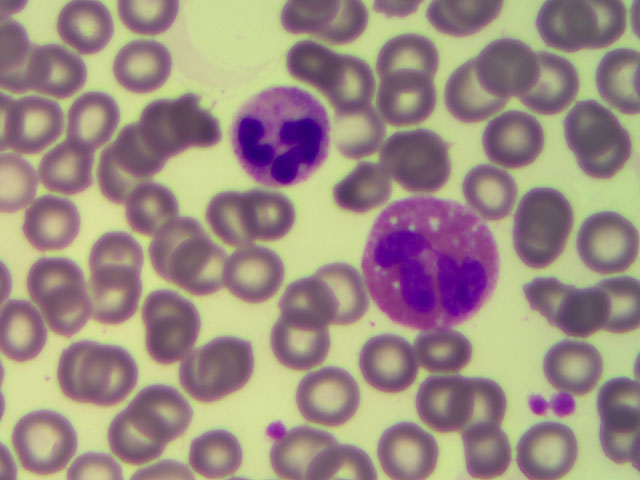Platelets: (518, 389, 586, 414), (260, 417, 286, 437)
RBC: (66, 423, 121, 480), (274, 423, 329, 480), (327, 423, 382, 480), (381, 423, 436, 480), (521, 423, 576, 480), (30, 45, 85, 101), (63, 1, 118, 57), (113, 37, 168, 93), (168, 92, 223, 148), (134, 102, 189, 158), (120, 120, 175, 176), (93, 146, 148, 202), (68, 91, 123, 147), (39, 149, 94, 205), (9, 95, 64, 151), (25, 201, 80, 257), (91, 222, 146, 278), (90, 268, 145, 324), (39, 287, 94, 343), (26, 248, 81, 304), (1, 301, 56, 357), (49, 345, 104, 401), (90, 350, 145, 406), (144, 316, 199, 372), (145, 279, 200, 335), (173, 250, 228, 306), (151, 214, 206, 270), (122, 180, 177, 236), (201, 189, 256, 245), (238, 185, 293, 241), (223, 251, 278, 307), (273, 274, 328, 330), (301, 269, 356, 325), (259, 330, 314, 386), (206, 329, 261, 385), (176, 352, 231, 408), (131, 385, 186, 441), (106, 409, 161, 465), (15, 414, 70, 470), (193, 423, 248, 479), (301, 366, 356, 422), (355, 337, 410, 393), (421, 323, 476, 379), (413, 378, 468, 434), (467, 423, 522, 479), (463, 379, 518, 435), (585, 377, 640, 433), (545, 332, 600, 388), (547, 282, 602, 338), (524, 270, 579, 326), (585, 272, 640, 328), (585, 215, 640, 271), (508, 217, 563, 273), (515, 184, 570, 240), (457, 166, 512, 222), (481, 116, 536, 172), (566, 121, 621, 177), (562, 91, 617, 147), (514, 57, 569, 113), (486, 39, 541, 95), (442, 67, 497, 123), (393, 127, 448, 183), (339, 160, 394, 216), (338, 106, 393, 162), (384, 67, 439, 123), (394, 35, 449, 91), (321, 53, 376, 109), (278, 29, 333, 85), (310, 2, 365, 58), (541, 1, 596, 57), (585, 1, 640, 56)
WBC: (360, 199, 496, 333), (229, 82, 336, 189)
